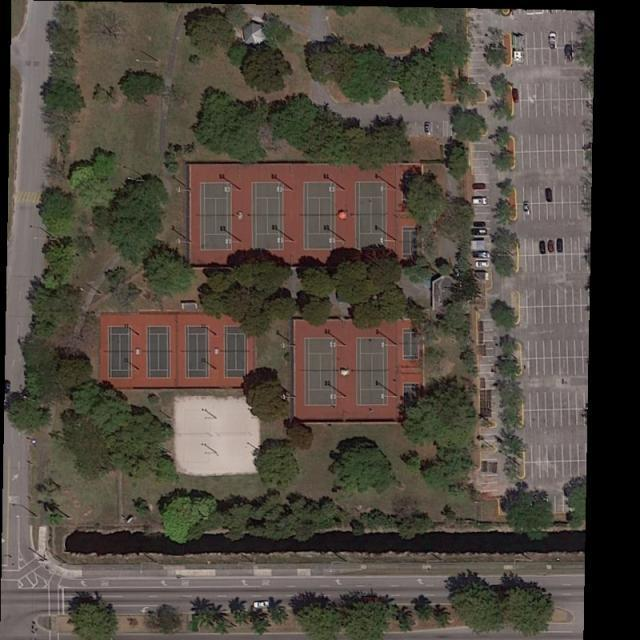vehicle: (548, 31, 558, 50), (565, 45, 574, 64), (511, 88, 521, 105), (545, 188, 554, 204), (539, 240, 548, 255), (254, 601, 270, 609), (472, 228, 488, 236), (473, 198, 489, 206), (425, 122, 433, 136), (474, 251, 490, 258), (4, 378, 11, 394), (547, 241, 555, 254), (477, 261, 491, 268), (472, 183, 486, 190), (523, 202, 531, 214), (474, 221, 487, 228), (558, 239, 564, 254)
